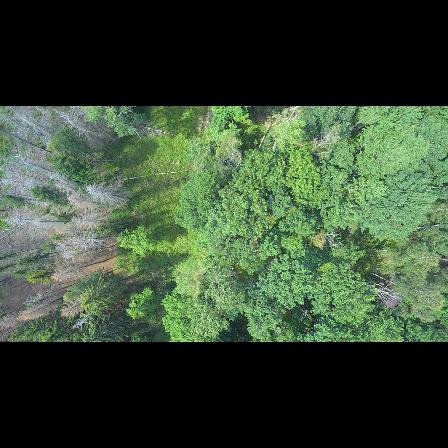Dead: (6, 106, 59, 140), (54, 106, 101, 144), (0, 127, 52, 154), (24, 282, 77, 304), (52, 260, 102, 280), (306, 125, 337, 157), (81, 227, 119, 251), (85, 186, 129, 206), (369, 284, 403, 308), (0, 172, 48, 189), (21, 156, 59, 177), (1, 309, 34, 331), (30, 215, 73, 230), (4, 189, 45, 204), (50, 179, 84, 197), (10, 212, 51, 226)
